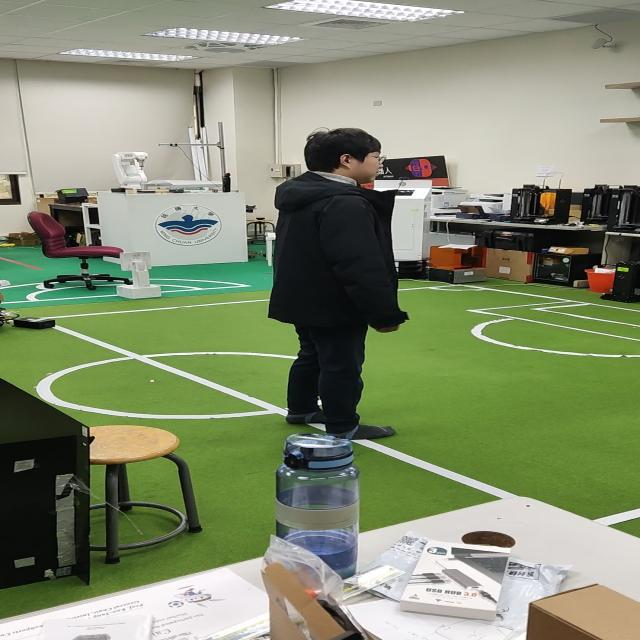person: (259, 123, 419, 434)
